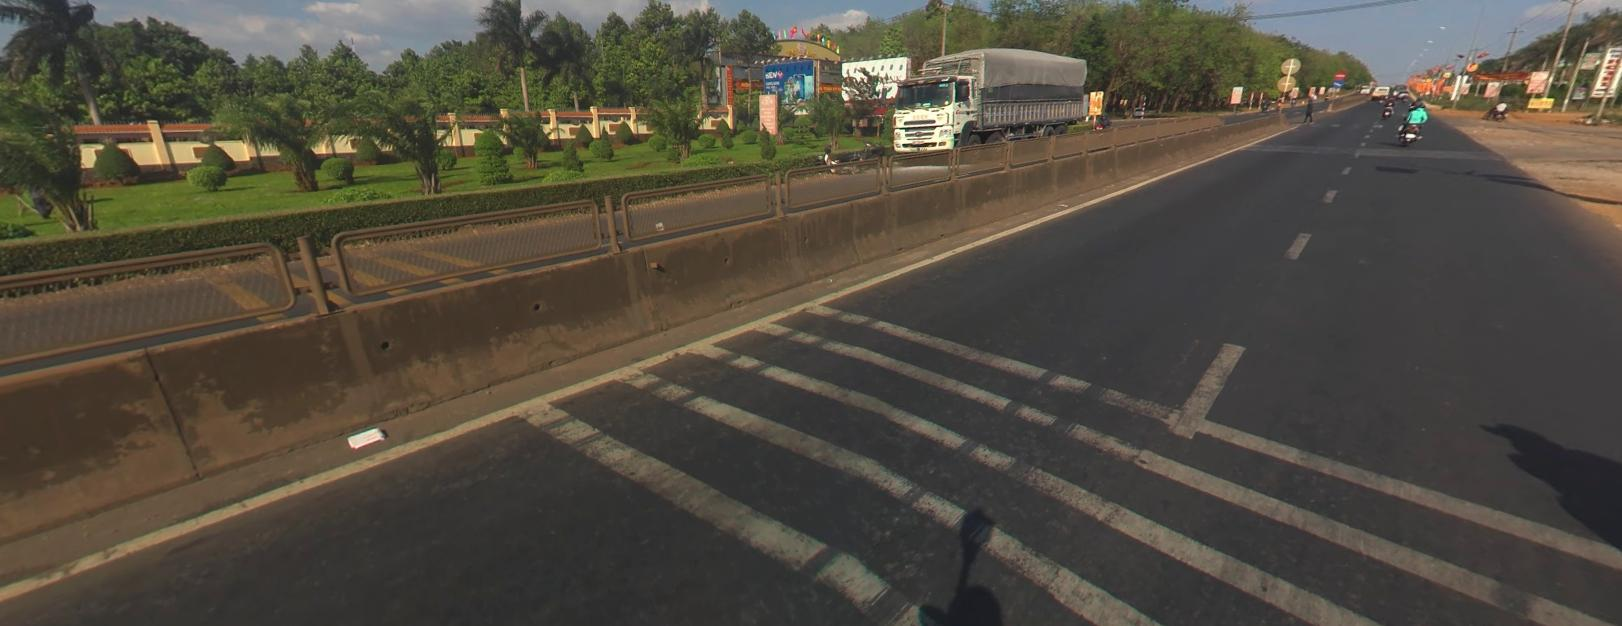Cam nguoc chieu: (1334, 70, 1344, 79)
Hieu lenh: (1333, 80, 1342, 87)
